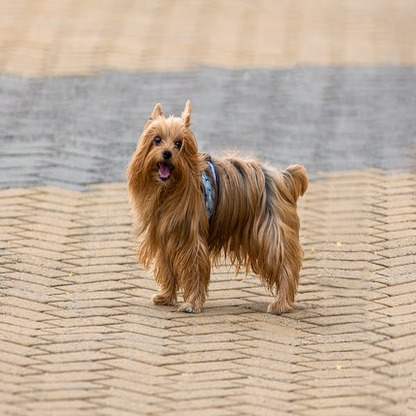yorkshire: (123, 98, 311, 314)
